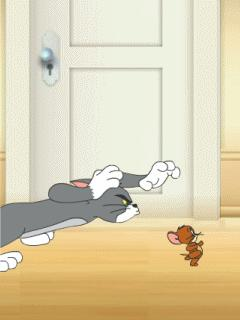jerry: (165, 224, 207, 269)
